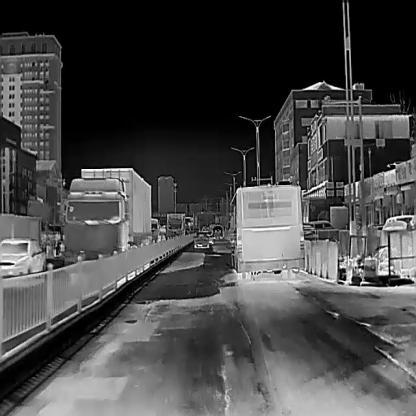car: (64, 165, 150, 260), (230, 184, 305, 280), (0, 237, 44, 277), (306, 220, 340, 240), (382, 214, 416, 231), (167, 211, 185, 234), (193, 230, 210, 247), (148, 217, 159, 241), (302, 224, 317, 240), (212, 224, 223, 238)
